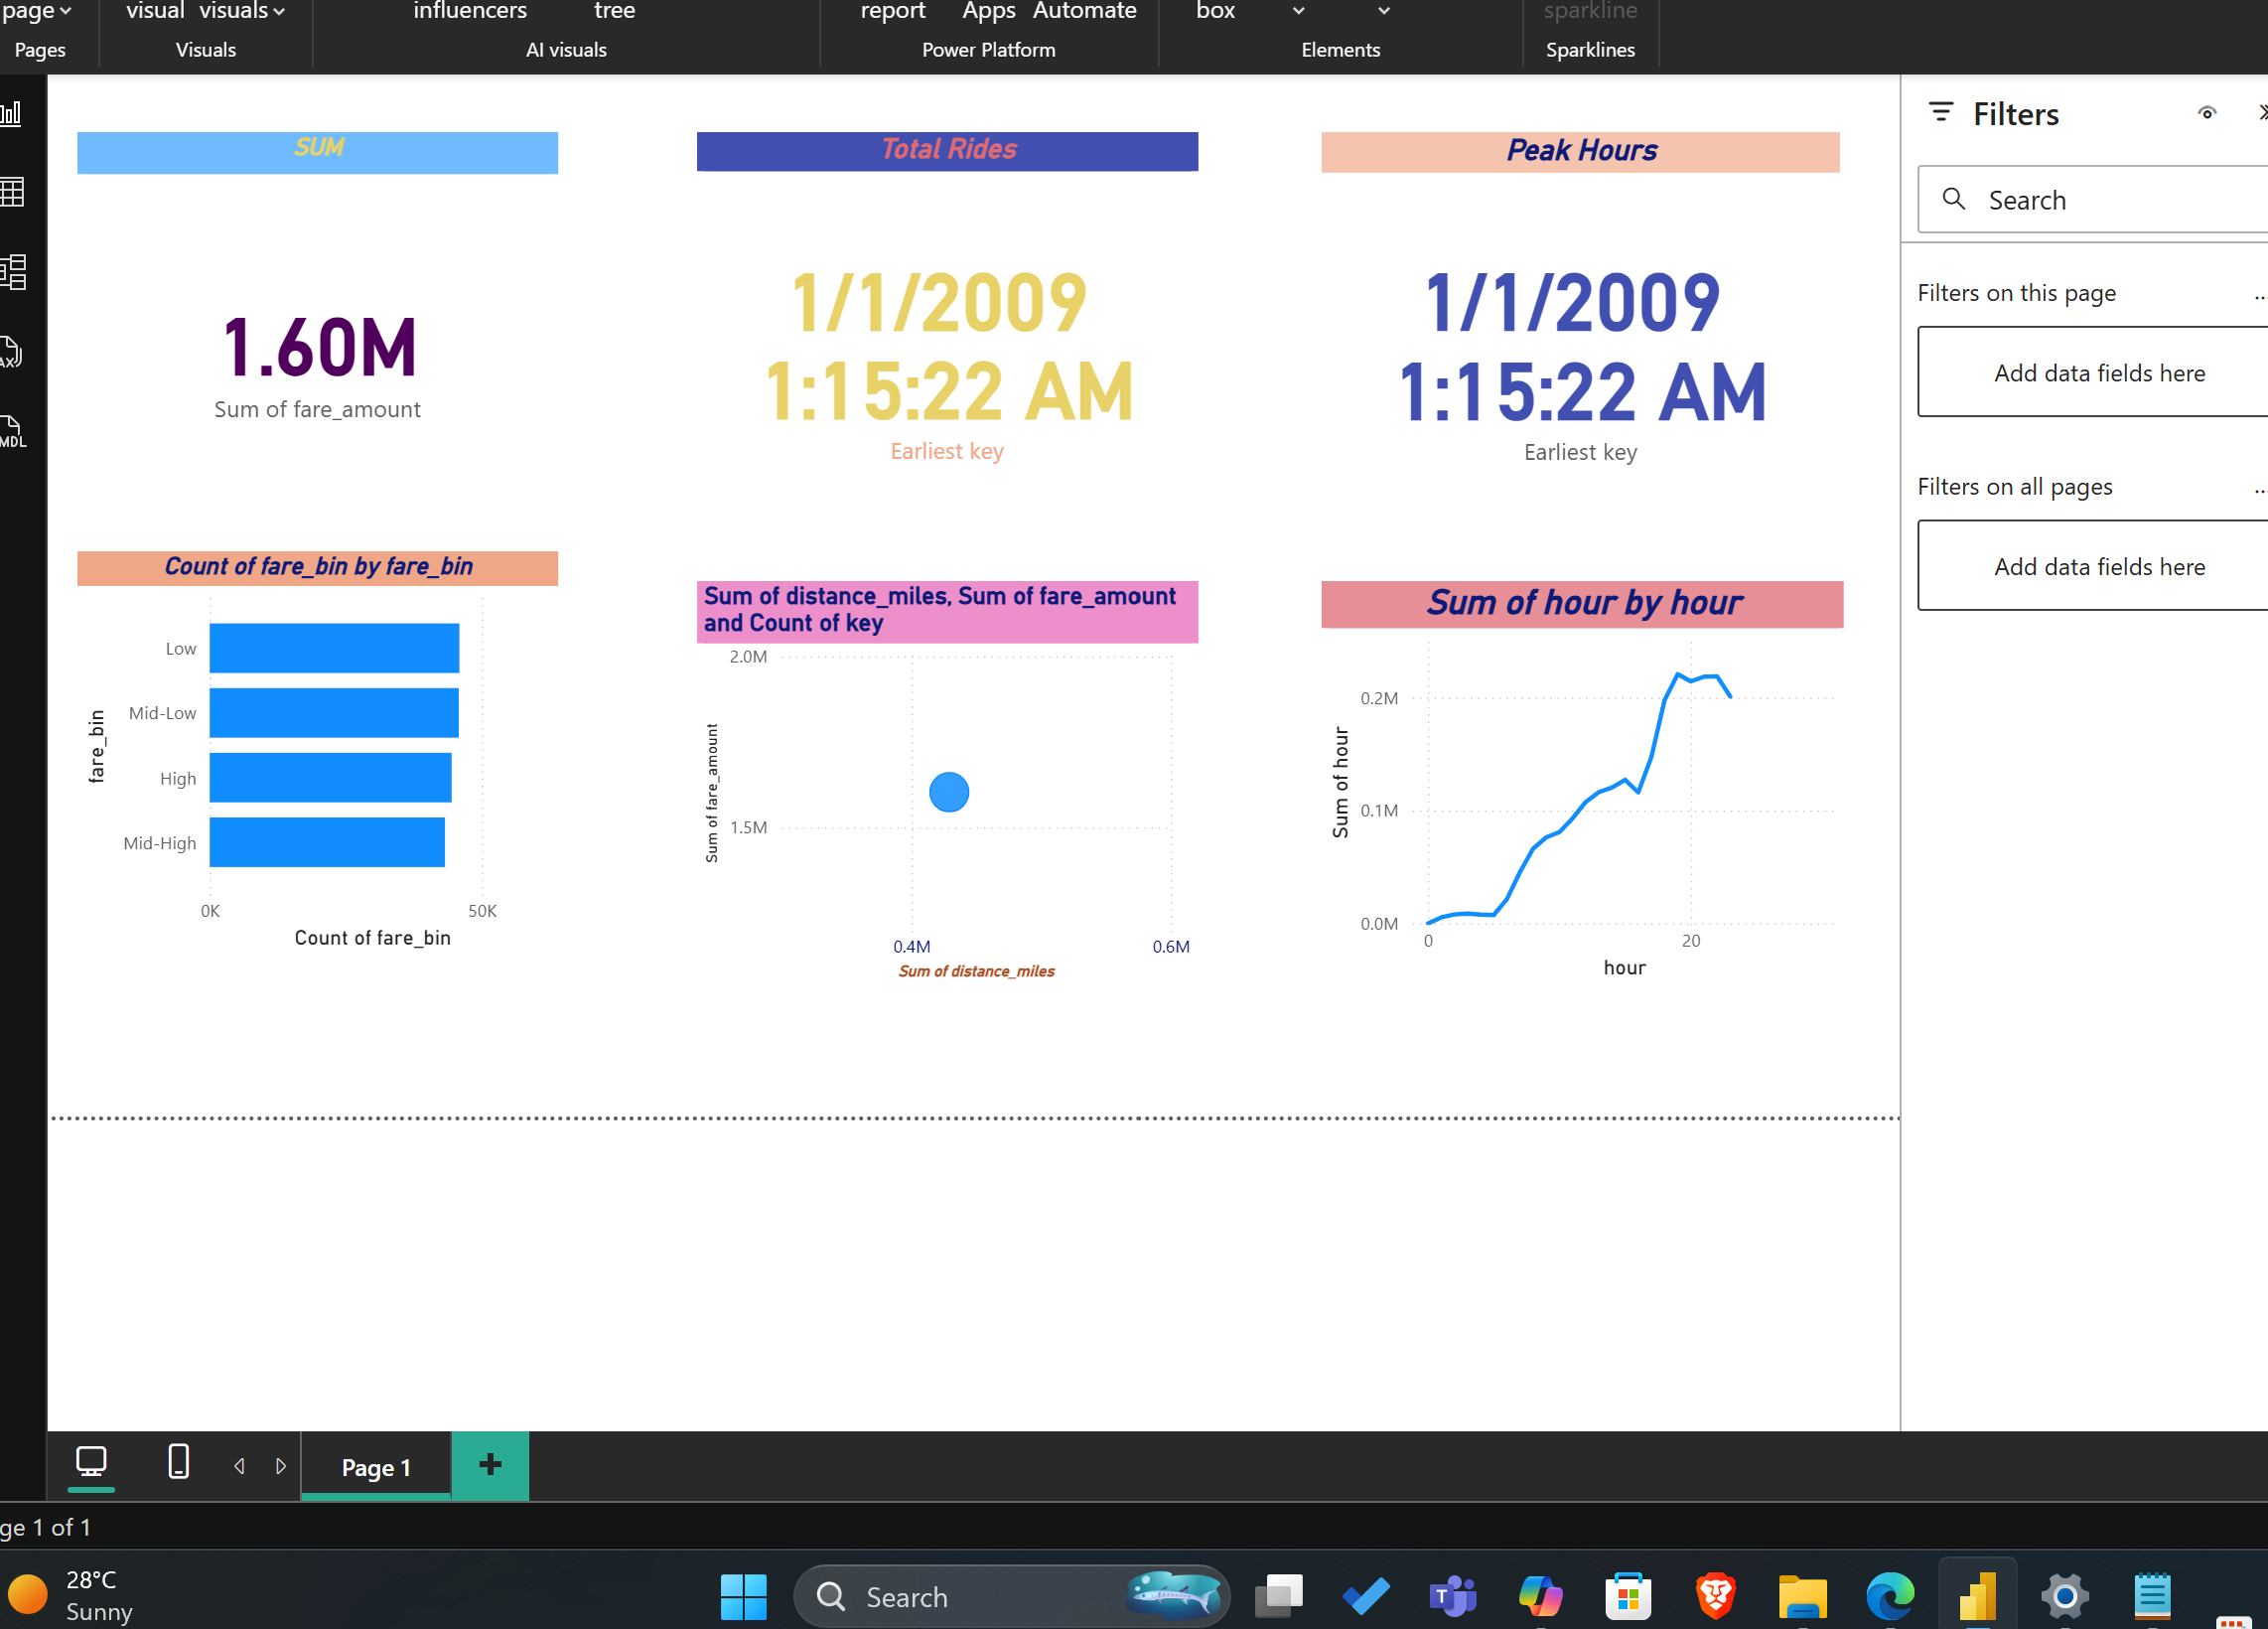

The dashboard page shown, as its layout file describes it:
{"tool":"powerbi","page":{"name":"Page 1","canvas":[1280,720],"ordinal":0},"visuals":[{"type":"card","title":"SUM","fields":{"Values":["Sum(uber_fares_cleaned.fare_amount)"]},"box":[20.6,39.8,332.4,280.2],"z":0},{"type":"card","title":"Total Rides","fields":{"Values":["Min(uber_fares_cleaned.key)"]},"box":[449.1,39.8,346.1,280.2],"z":1000},{"type":"card","title":"Peak Hours","fields":{"Values":["Min(uber_fares_cleaned.key)"]},"box":[880.3,39.8,358.5,280.2],"z":2000},{"type":"clusteredBarChart","fields":{"Category":["uber_fares_cleaned.fare_bin"],"Y":["CountNonNull(uber_fares_cleaned.fare_bin)"]},"box":[20.6,329.6,332.4,280.2],"z":3000},{"type":"scatterChart","fields":{"X":["Sum(uber_fares_cleaned.distance_miles)"],"Y":["Sum(uber_fares_cleaned.fare_amount)"],"Size":["CountNonNull(uber_fares_cleaned.key)"]},"box":[449.1,350.2,346.1,280.2],"z":3001},{"type":"lineChart","fields":{"Category":["uber_fares_cleaned.hour"],"Y":["Sum(uber_fares_cleaned.hour)"]},"box":[880.3,350.2,361.2,280.2],"z":3002}]}

Visuals, with their boxes in screenshot pixels (x1, y1, x2, y2):
"SUM" card: x1=44, y1=73, x2=645, y2=580
"Total Rides" card: x1=819, y1=73, x2=1447, y2=580
"Peak Hours" card: x1=1601, y1=73, x2=2250, y2=580
clusteredBarChart - uber_fares_cleaned.fare_bin x CountNonNull(uber_fares_cleaned.fare_bin): x1=44, y1=597, x2=645, y2=1106
scatterChart - Sum(uber_fares_cleaned.distance_miles) x Sum(uber_fares_cleaned.fare_amount): x1=819, y1=635, x2=1447, y2=1142
lineChart - uber_fares_cleaned.hour x Sum(uber_fares_cleaned.hour): x1=1601, y1=635, x2=2255, y2=1142
